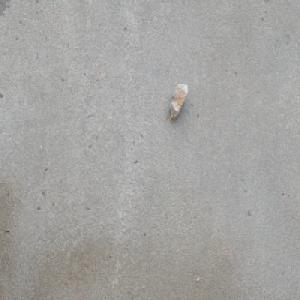Rock: (168, 82, 188, 121)
